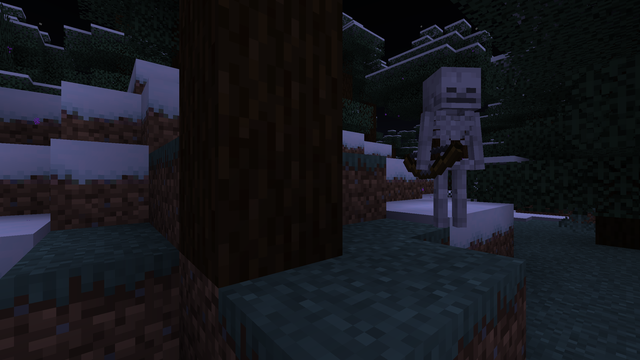squelettes: (416, 61, 482, 232)
